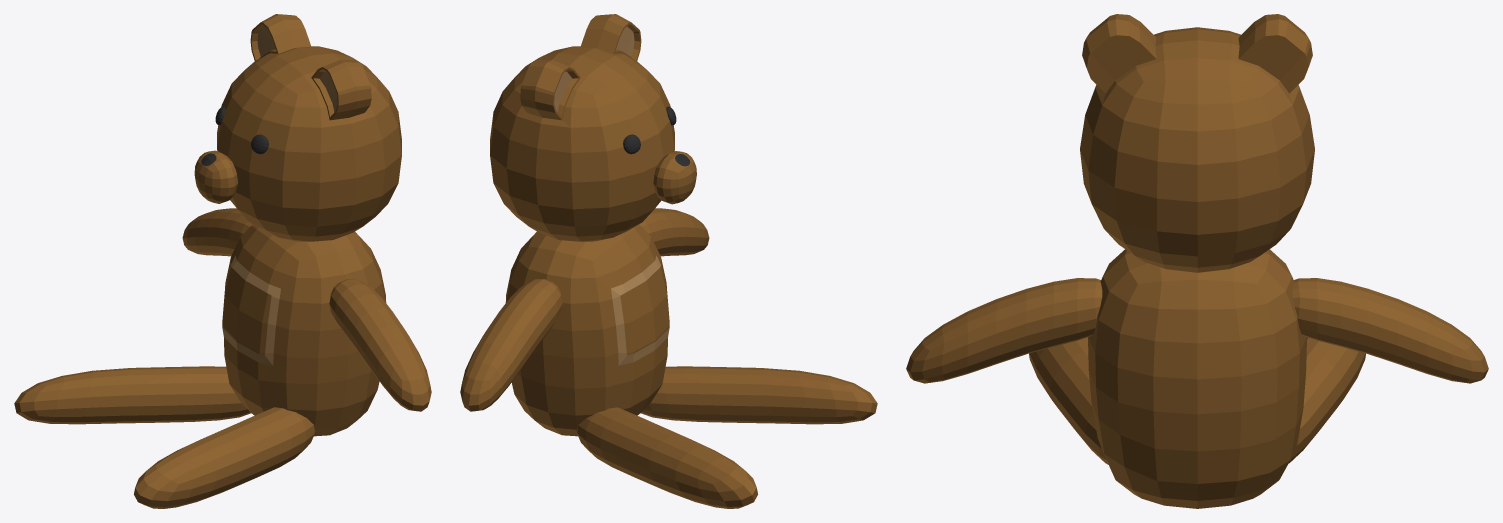
The model's file is Bear.fbx.
The picture shows the model from 3 angles, left to right: view 1: azimuth 30°, elevation 25°; view 2: azimuth 150°, elevation 25°; view 3: azimuth 270°, elevation 25°; orthographic projection. The views are drawn at different scales.
Parts seen in each view (by area): view 1: Bear; view 2: Bear; view 3: Bear.
Boxes of the visible parts, x1,y1,x2,y2 form: Bear: (14,14,431,508); Bear: (460,14,877,508); Bear: (906,14,1488,508).
Size of the model in its own units: 0.3727 by 0.4374 by 0.477.
